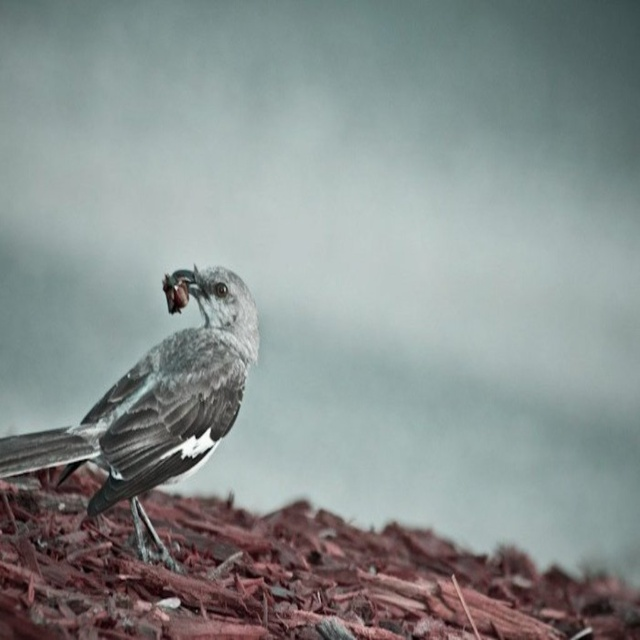Sparrow: (0, 267, 258, 570)
